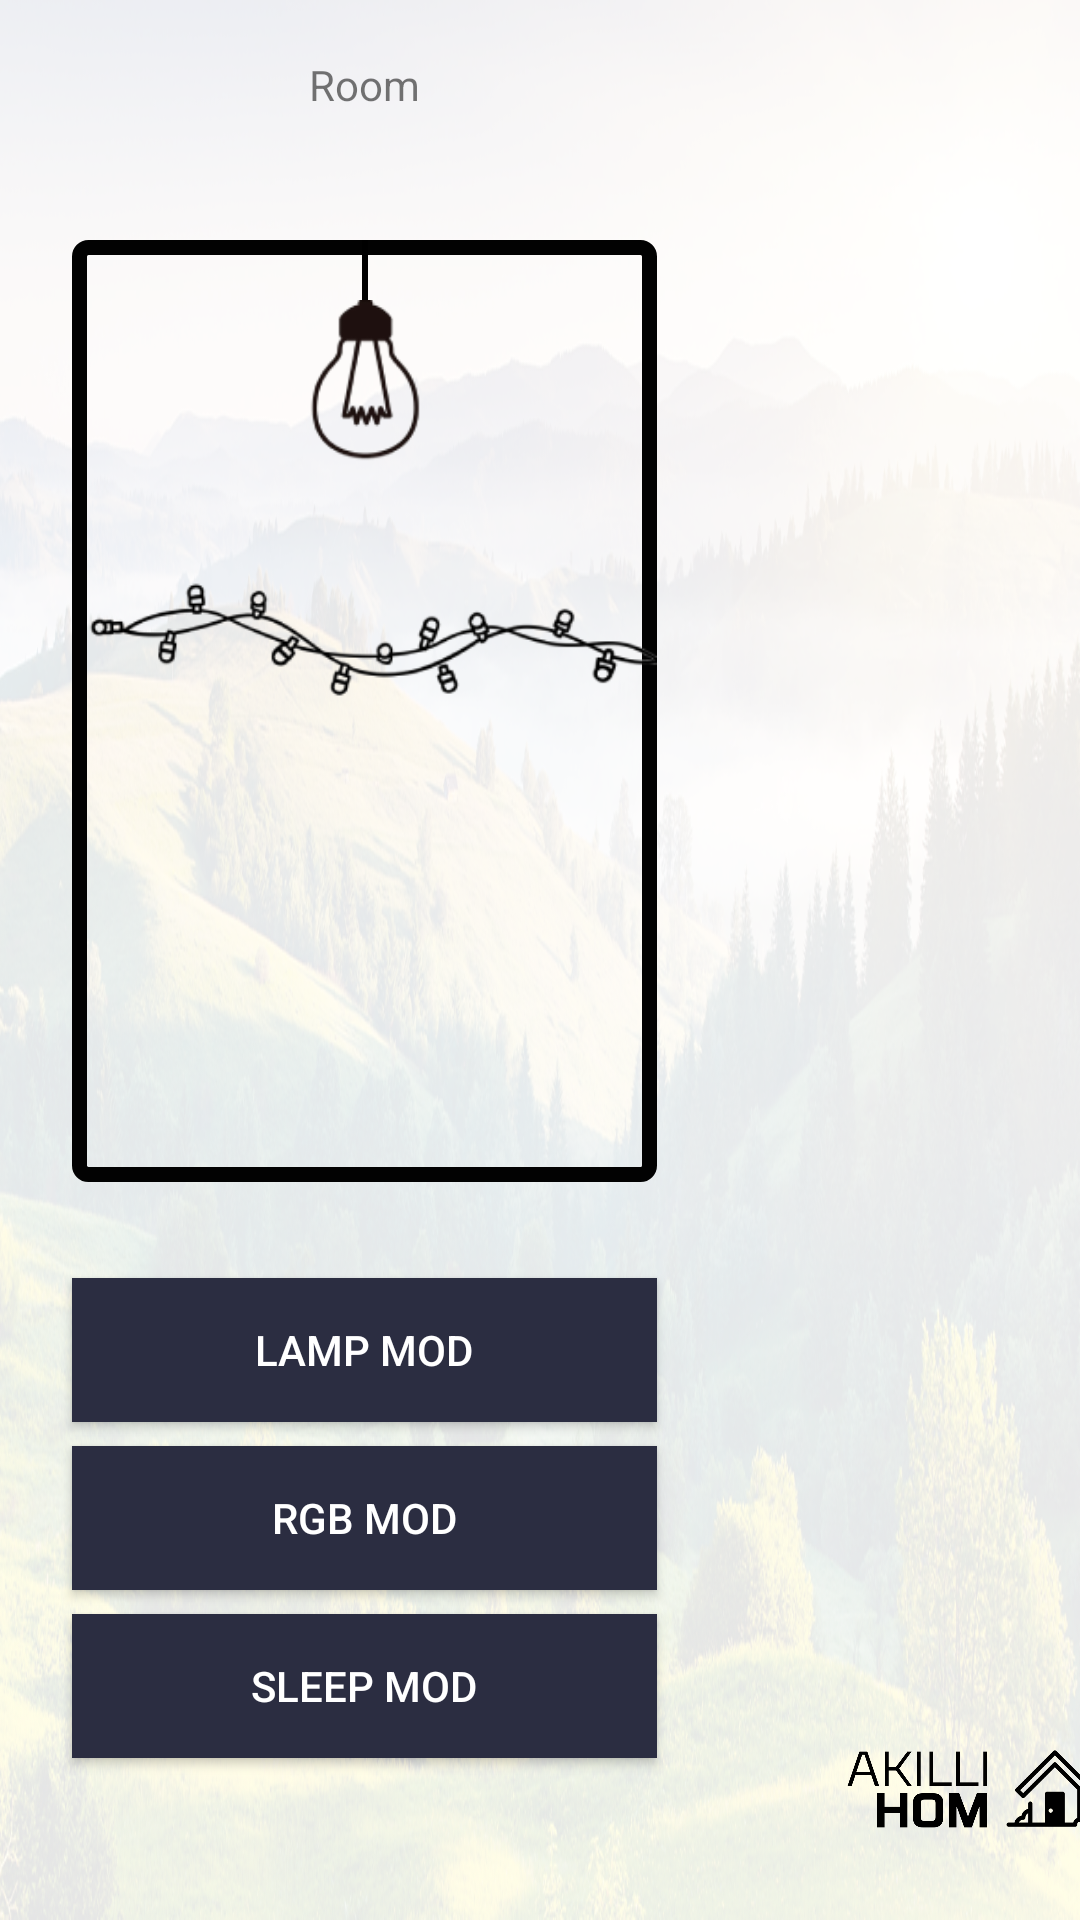

Icons on this 1080x1920 Android screen, each with its box as (x1, y1, x2, y2):
lamp close: (311, 300, 420, 460)
